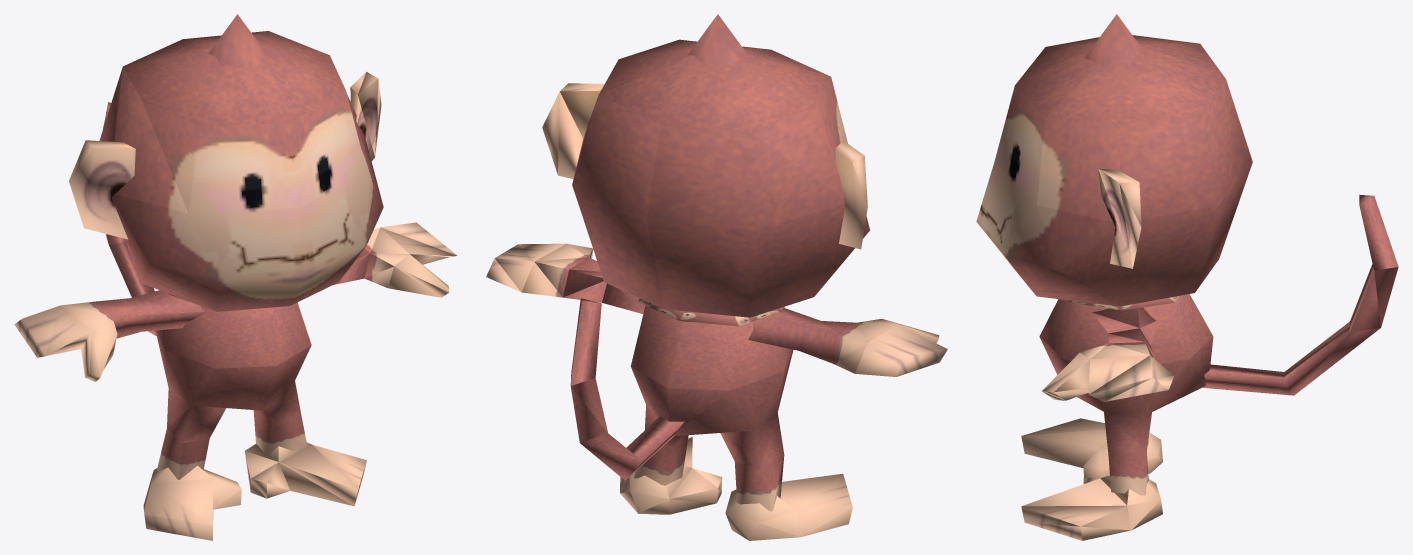
File: Salsa_64_2.obj
3 views of the same model, side by side, from view 1: azimuth 30°, elevation 25°; view 2: azimuth 150°, elevation 25°; view 3: azimuth 270°, elevation 25° (orthographic). The views are drawn at different scales.
Parts seen in each view (by area): view 1: ukiki_mesh, ukiki_mesh.002, ukiki_mesh.004, ukiki_mesh.003, Cone, ukiki_mesh.001; view 2: ukiki_mesh, ukiki_mesh.002, ukiki_mesh.003, ukiki_mesh.004, ukiki_mesh.001, Cone, Cube_Cube.001; view 3: ukiki_mesh, ukiki_mesh.003, ukiki_mesh.004, ukiki_mesh.001, Cone, Cube_Cube.001.
Boxes of the visible parts, x1,y1,x2,y2 form: ukiki_mesh: [69, 31, 383, 540]; ukiki_mesh.002: [14, 290, 204, 381]; ukiki_mesh.004: [244, 442, 366, 506]; ukiki_mesh.003: [334, 222, 457, 297]; Cone: [208, 14, 267, 69]; ukiki_mesh.001: [350, 71, 381, 160]; ukiki_mesh: [570, 39, 869, 540]; ukiki_mesh.002: [748, 308, 947, 376]; ukiki_mesh.003: [486, 243, 645, 313]; ukiki_mesh.004: [620, 437, 722, 514]; ukiki_mesh.001: [542, 83, 604, 179]; Cone: [688, 14, 749, 65]; Cube_Cube.001: [638, 298, 784, 326]; ukiki_mesh: [976, 35, 1398, 495]; ukiki_mesh.003: [1042, 307, 1174, 401]; ukiki_mesh.004: [1021, 475, 1162, 540]; ukiki_mesh.001: [1098, 168, 1141, 268]; Cone: [1085, 14, 1144, 66]; Cube_Cube.001: [1069, 295, 1179, 310].
Size of the model in its own units: 10.04 by 11.06 by 8.93.
7 materials, 7 textured.
